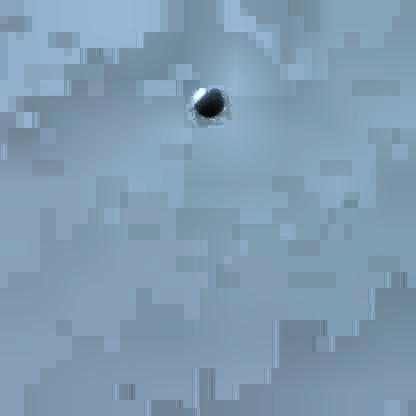golfball: (192, 82, 222, 113)
